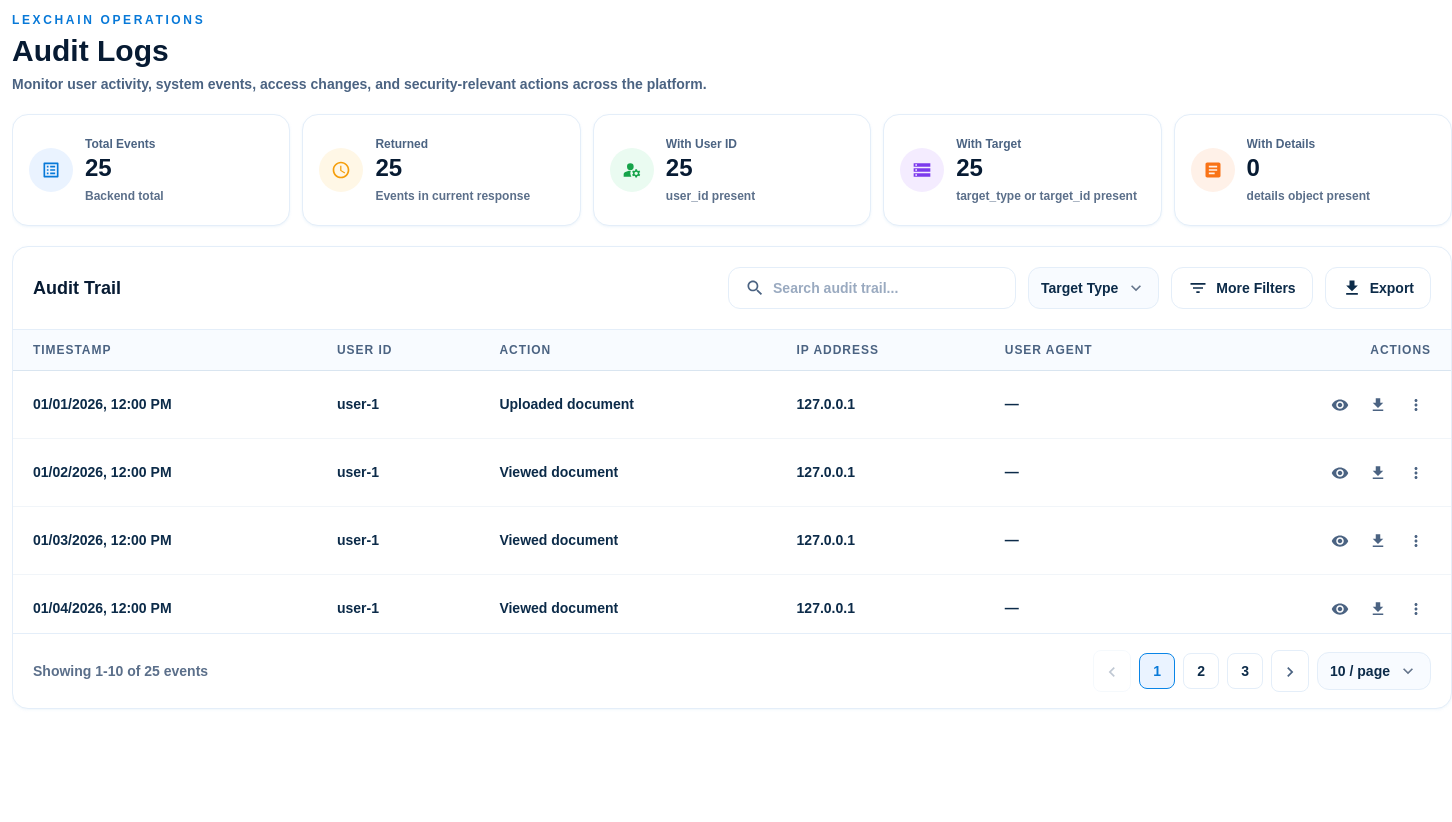
Test case: opens an accessible filter panel and dismisses it with Escape
Click the button "More Filters". click: [1242, 288]
box: [1171,266,1313,308]
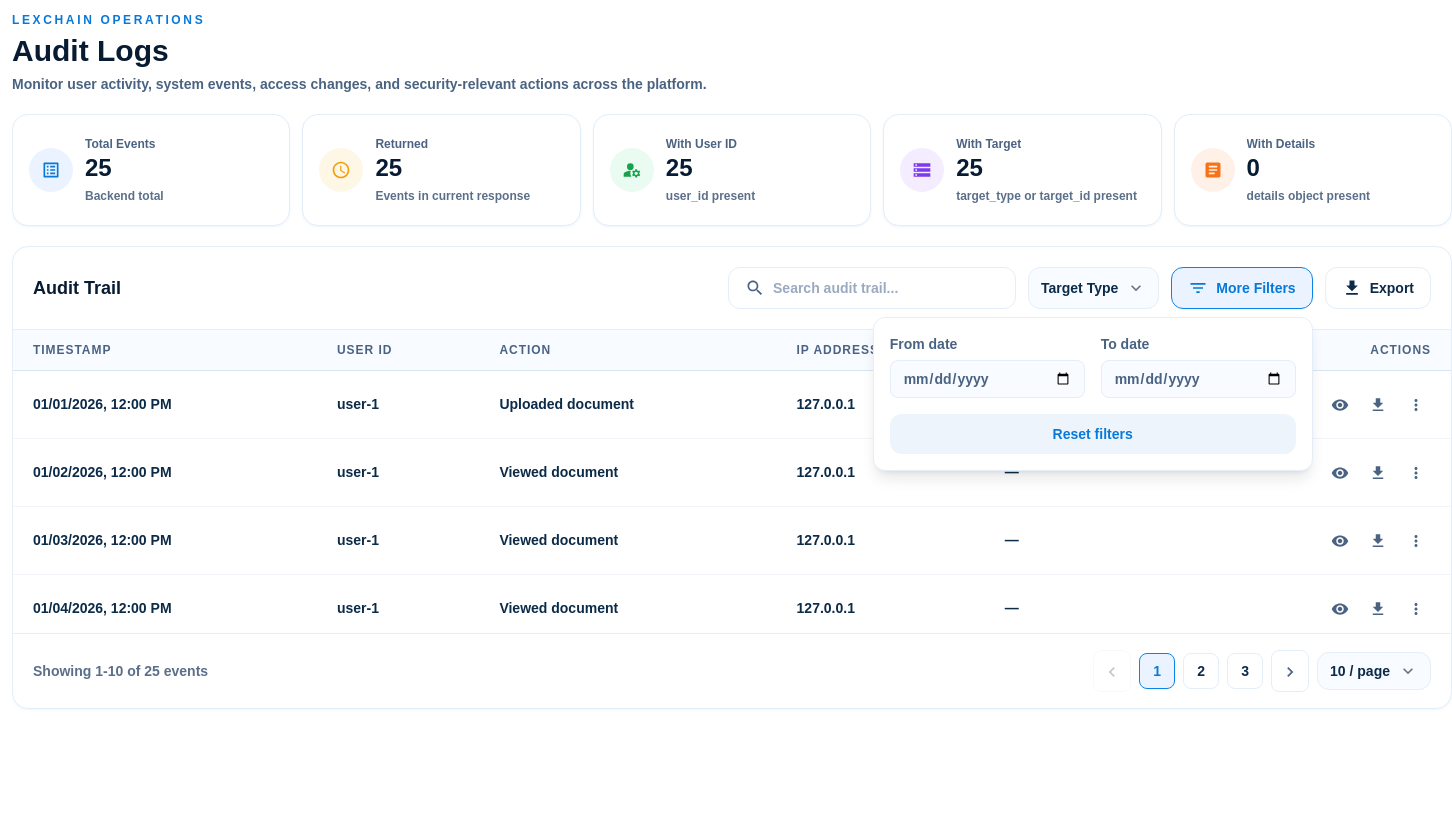
Expected: the button "More Filters" is expanded, [1171,266,1313,308]
Press Escape in the element named "Audit filters", box [873,316,1313,470]
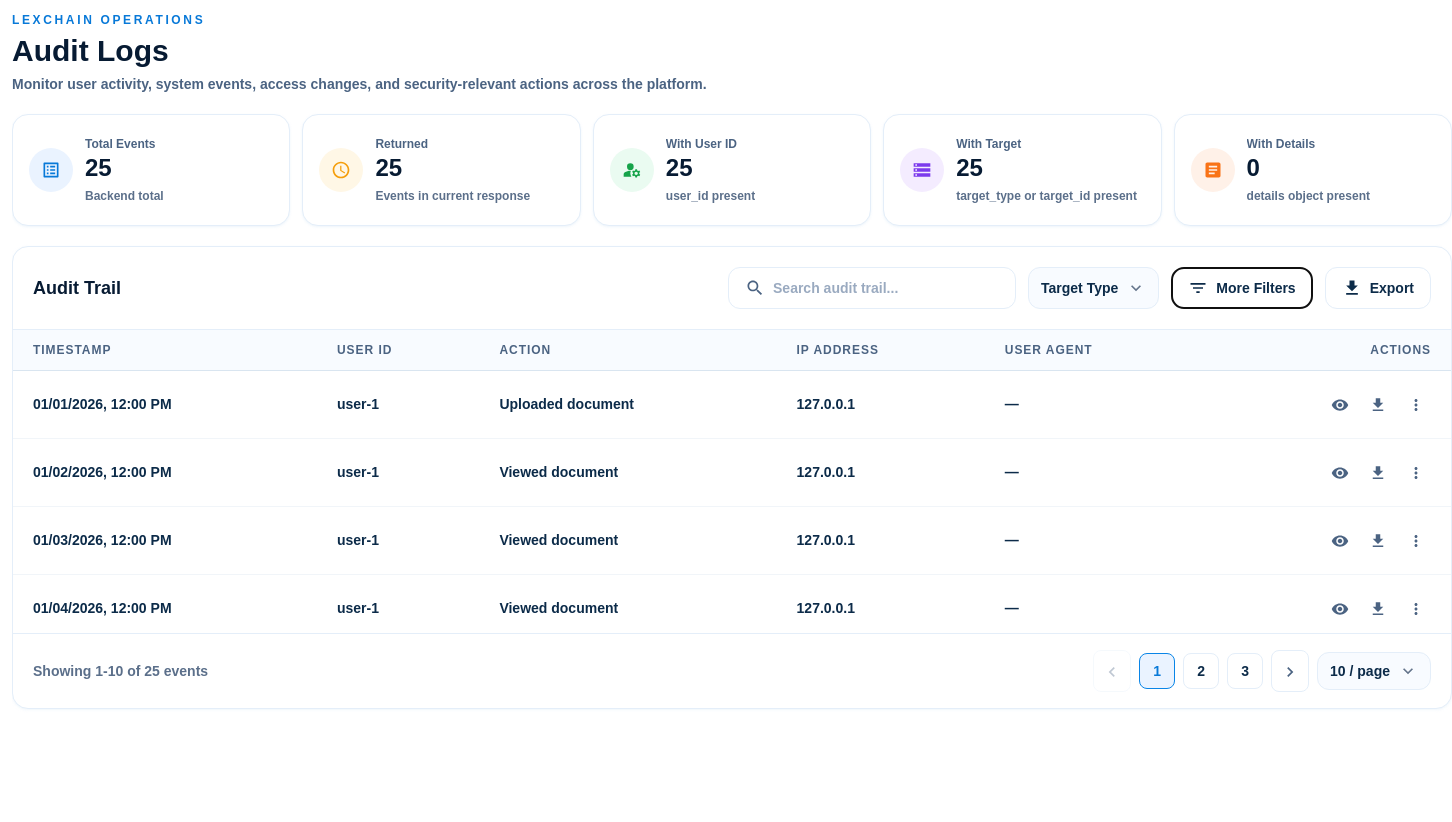
Expected: the button "More Filters" is collapsed, [1171,266,1313,308]
